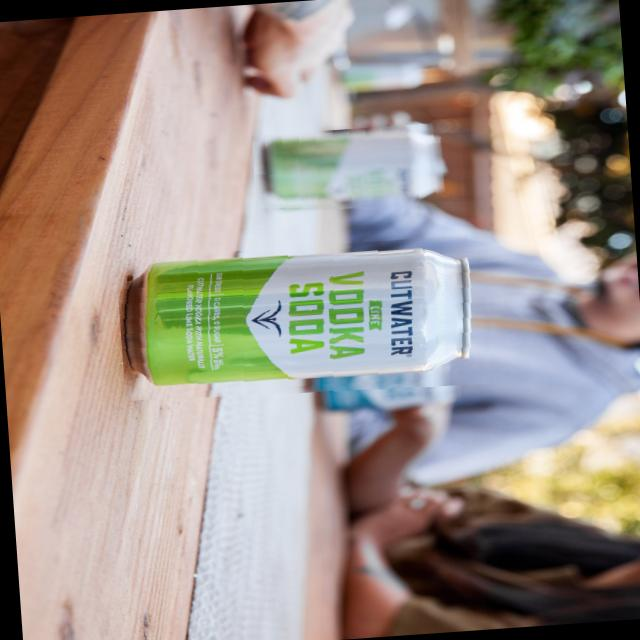Cans: (114, 233, 500, 409), (250, 121, 463, 220)
